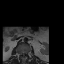CCS_stenosis: (23, 50, 24, 58)
LFS_severe_stenosis: (25, 50, 27, 55)
LLS_severe_stenosis: (24, 51, 25, 56)
RFS_severe_stenosis: (20, 51, 21, 56)
RLS_stenosis: (21, 51, 23, 56)
